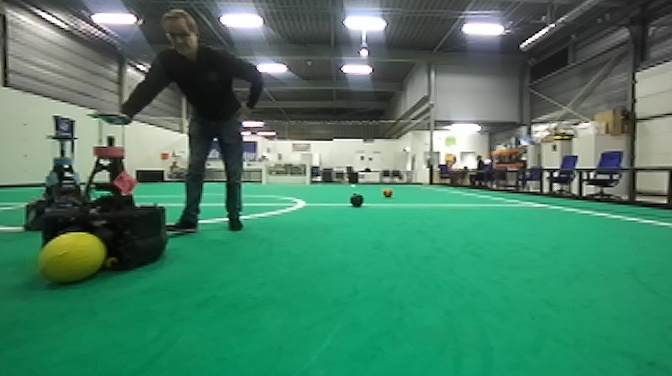ball: (36, 229, 109, 287), (348, 190, 366, 210), (381, 187, 394, 201)
goal: (262, 164, 312, 188)
goalpost: (305, 163, 312, 188), (261, 165, 268, 186)
human: (97, 5, 266, 237)
robot: (40, 110, 173, 275), (22, 112, 97, 234)
